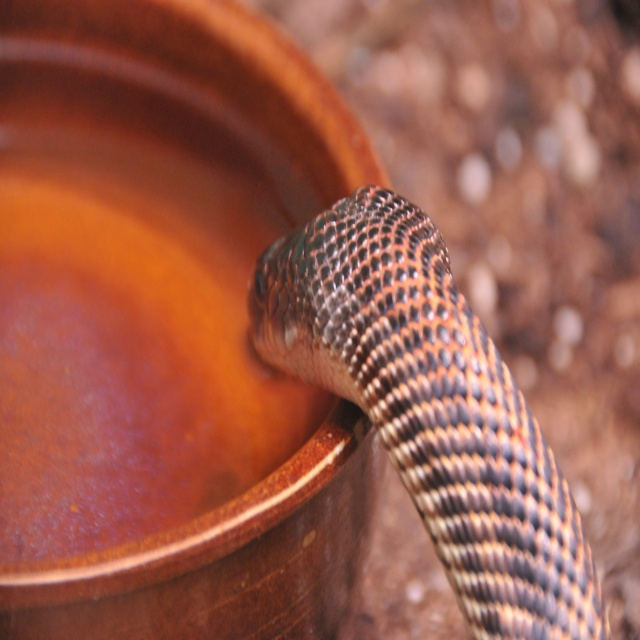Snake: (248, 180, 609, 639)
